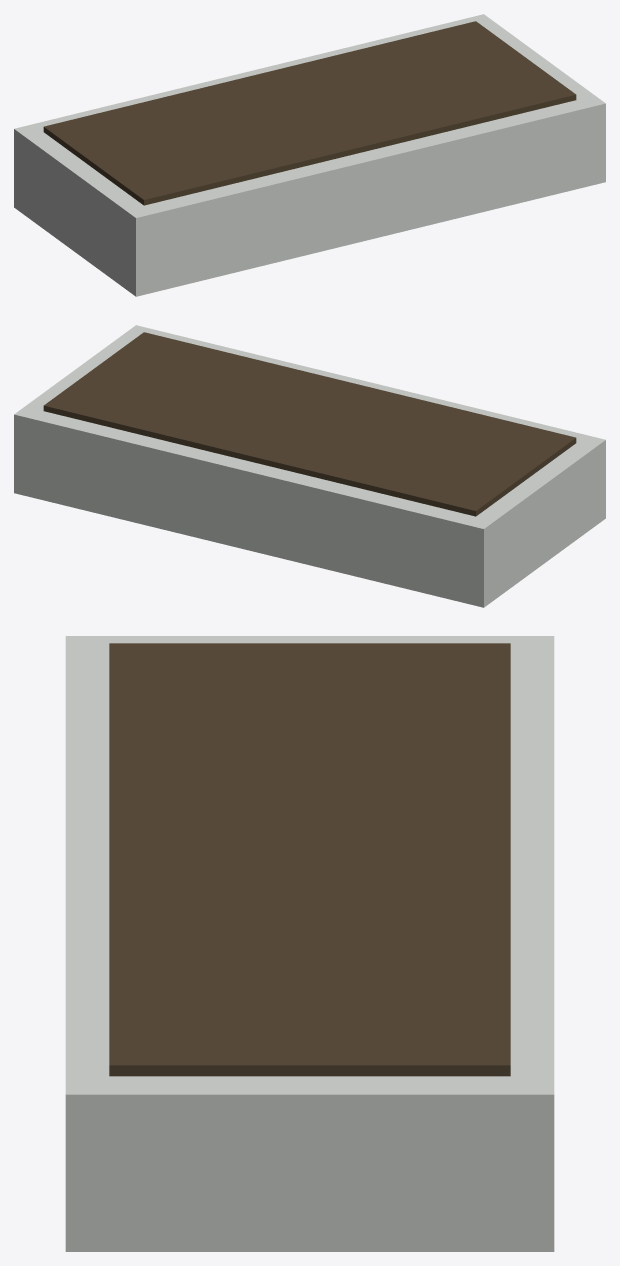
Rendered from HAP_PLANTER_EMPTY_01.fbx.
3 views of the same model, one above another, from view 1: azimuth 30°, elevation 25°; view 2: azimuth 150°, elevation 25°; view 3: azimuth 270°, elevation 25° (orthographic). The views are drawn at different scales.
Parts seen in each view (by area): view 1: HAP_PLANTER_EMPTY_01; view 2: HAP_PLANTER_EMPTY_01; view 3: HAP_PLANTER_EMPTY_01.
Part boxes in pixels (left/top/right/bottom): HAP_PLANTER_EMPTY_01: left=14, top=14, right=605, bottom=296; HAP_PLANTER_EMPTY_01: left=14, top=325, right=605, bottom=607; HAP_PLANTER_EMPTY_01: left=65, top=636, right=554, bottom=1251.
Size of the model in its own units: 200 by 34.25 by 90.
